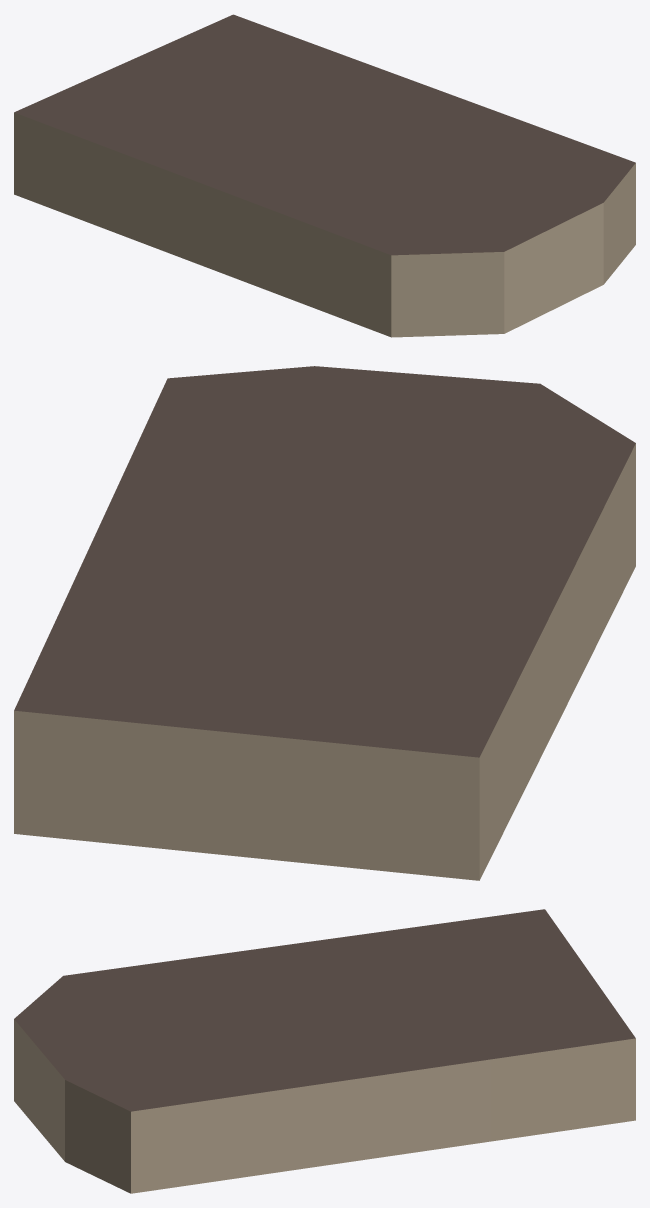
3 renders of one model, top to bottom at view 1: azimuth 30°, elevation 25°; view 2: azimuth 150°, elevation 25°; view 3: azimuth 270°, elevation 25°, orthographic. The views are drawn at different scales.
Visible parts, largest first — view 1: HP-w446933506; view 2: HP-w446933506; view 3: HP-w446933506.
Boxes of the visible parts, box(x1,y1,x2,y2) form: HP-w446933506: box(14, 14, 635, 337); HP-w446933506: box(14, 366, 635, 880); HP-w446933506: box(14, 909, 635, 1193).
Size of the model in its own units: 47.59 by 9 by 61.77.
